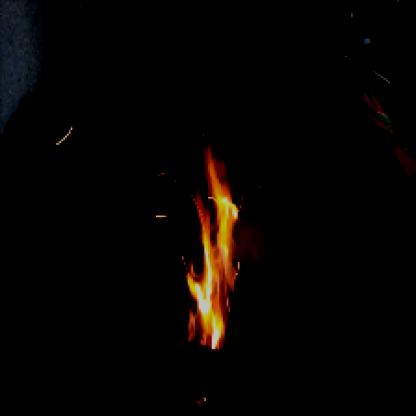Fire: (174, 132, 250, 355)
